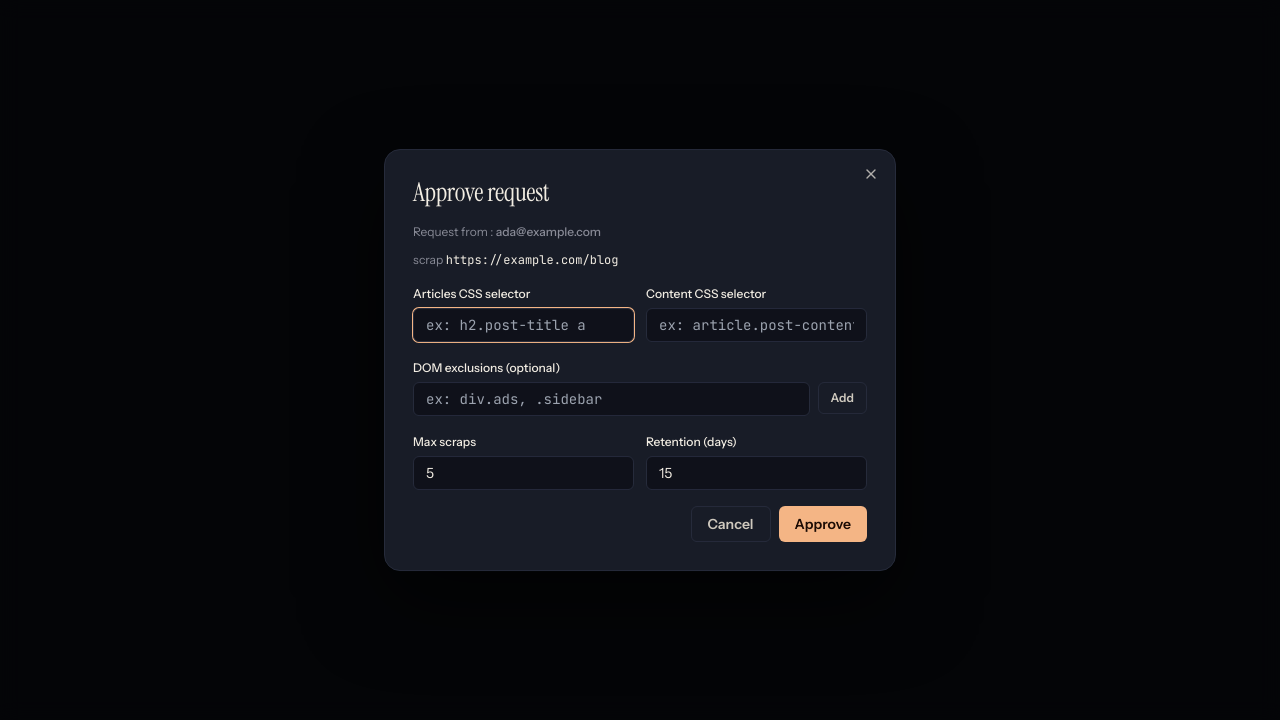
Test: ScrapConfigFields (via the approve dialog) › adds an exclusion with the Add button
The image size is (1280, 720).
In the field with placeholder "ex: div.ads, .sidebar": (611, 399) left=413, top=382, right=810, bottom=416, type ".sidebar"
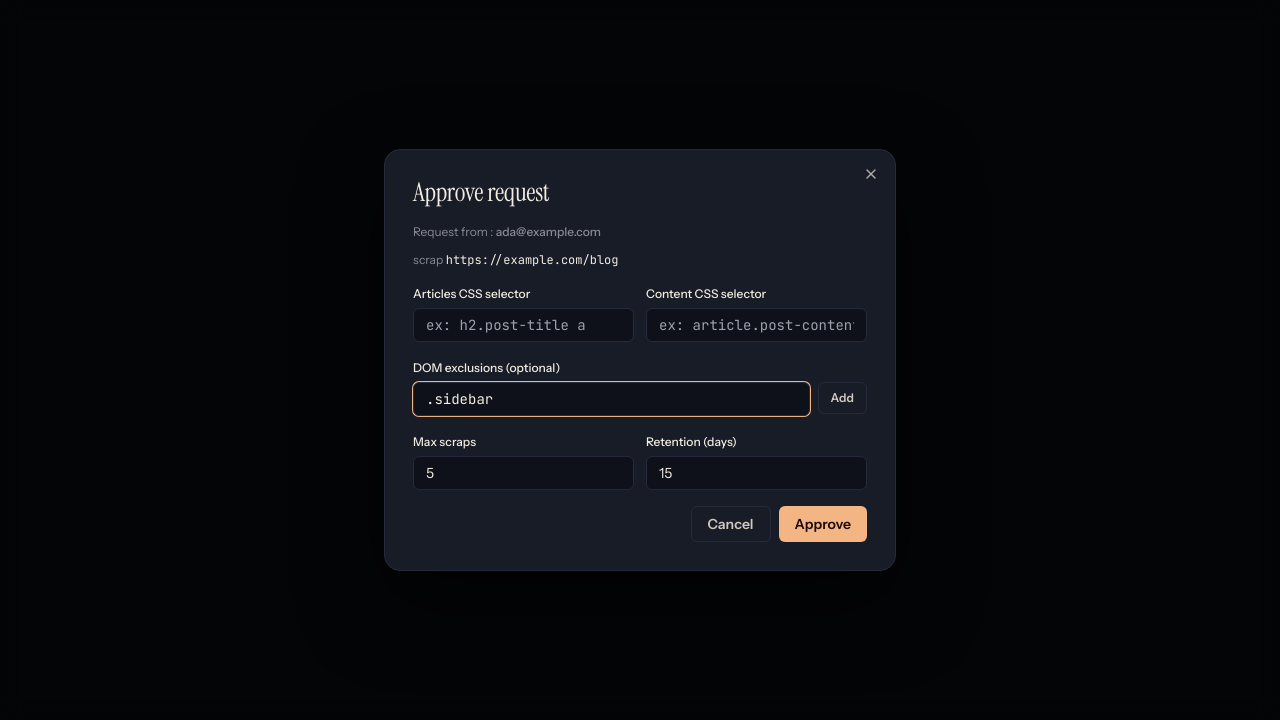
Click the button "Add": (842, 398) left=818, top=382, right=867, bottom=414
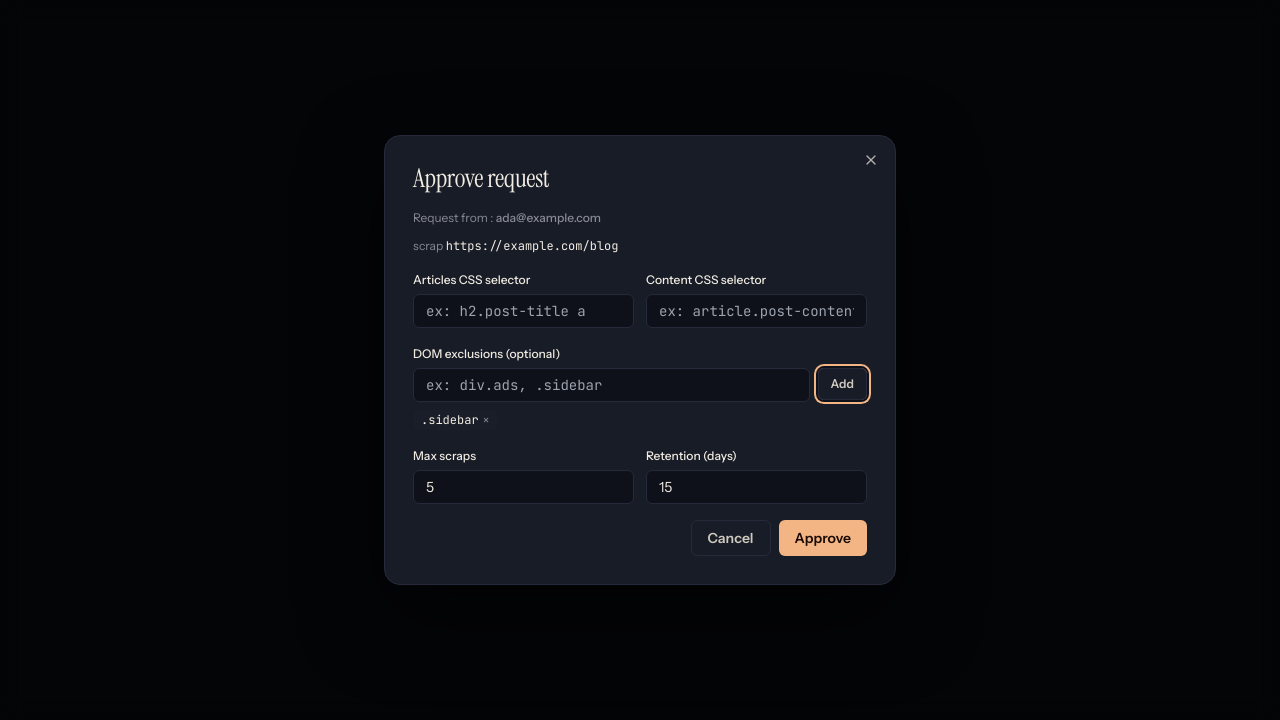
Check: the text ".sidebar" is shown, box left=421, top=412, right=479, bottom=428
Check: the field with placeholder "ex: div.ads, .sidebar" is empty, box left=413, top=368, right=810, bottom=402
